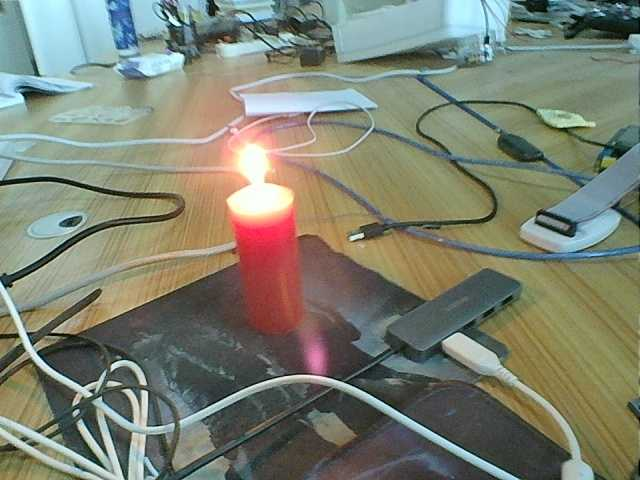candle: (224, 214, 318, 334)
fire: (231, 142, 282, 210)
